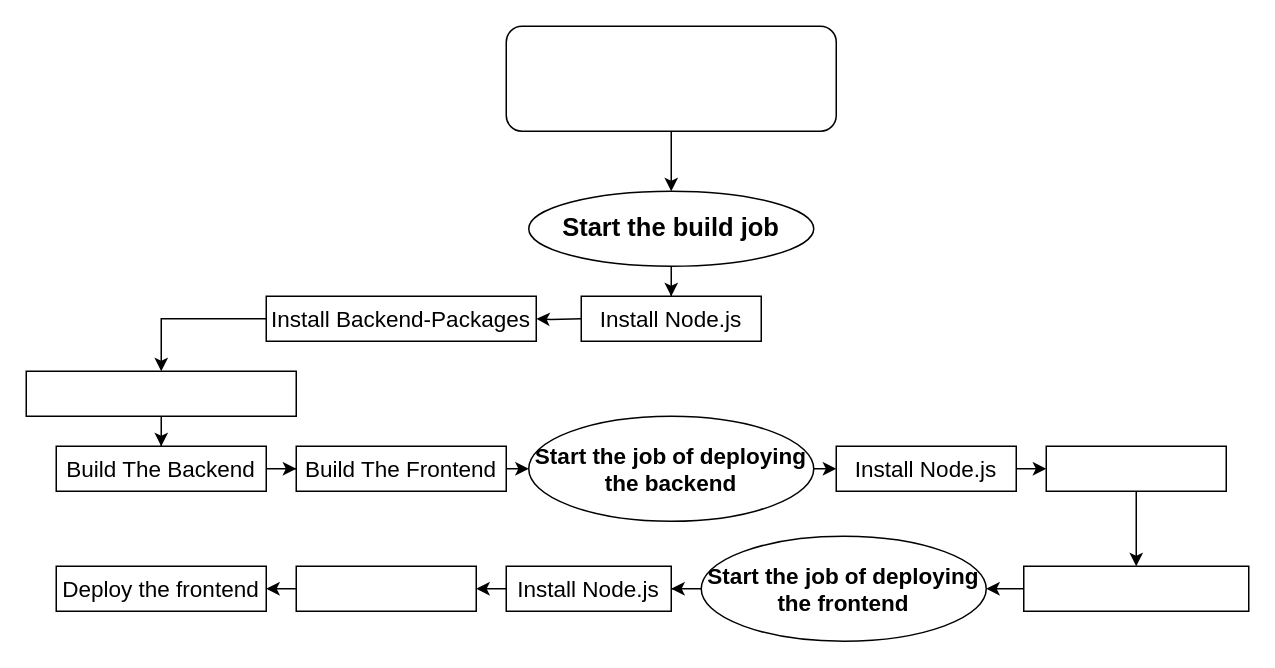
Some shapes in this 1275 by 668 pixel diagram are drawn without their labels. Each missing label, with the centre of its shape:
Deploy the backend: (1135,588)
Install AWS CLI: (385,588)
Install EB CLI: (1135,468)
Install Frontend-Packages: (160,393)
Pipeline starts: (670,78)
